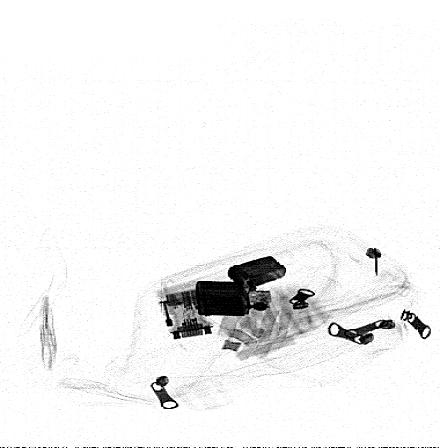Lighter: (194, 255, 289, 317)
